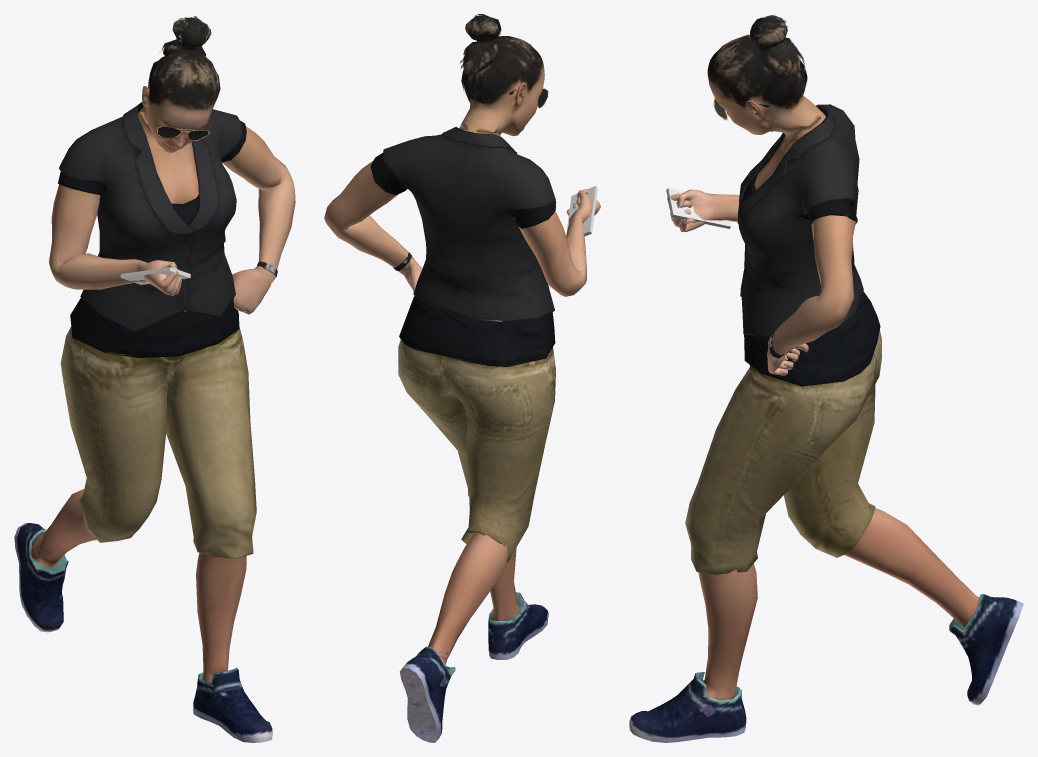
The picture shows the model from 3 angles, left to right: view 1: azimuth 30°, elevation 25°; view 2: azimuth 150°, elevation 25°; view 3: azimuth 270°, elevation 25°; orthographic projection. The views are drawn at different scales.
Parts seen in each view (by area): view 1: p04746; view 2: p04746; view 3: p04746.
Part boxes in pixels (bbox=[...]): p04746: bbox=[14, 16, 295, 742]; p04746: bbox=[324, 14, 600, 742]; p04746: bbox=[629, 15, 1023, 742].
Bounding box in the file's own units: 0.6522 × 1.68 × 0.8378.
1 material, 1 textured.
